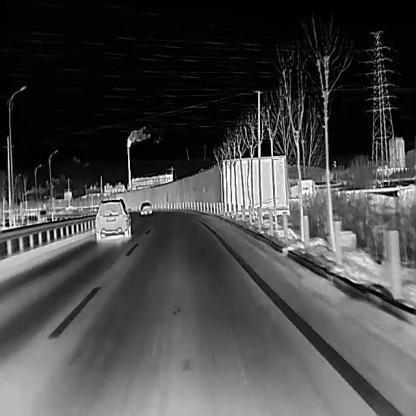car: (94, 196, 130, 240), (22, 209, 48, 221), (139, 200, 152, 214)
